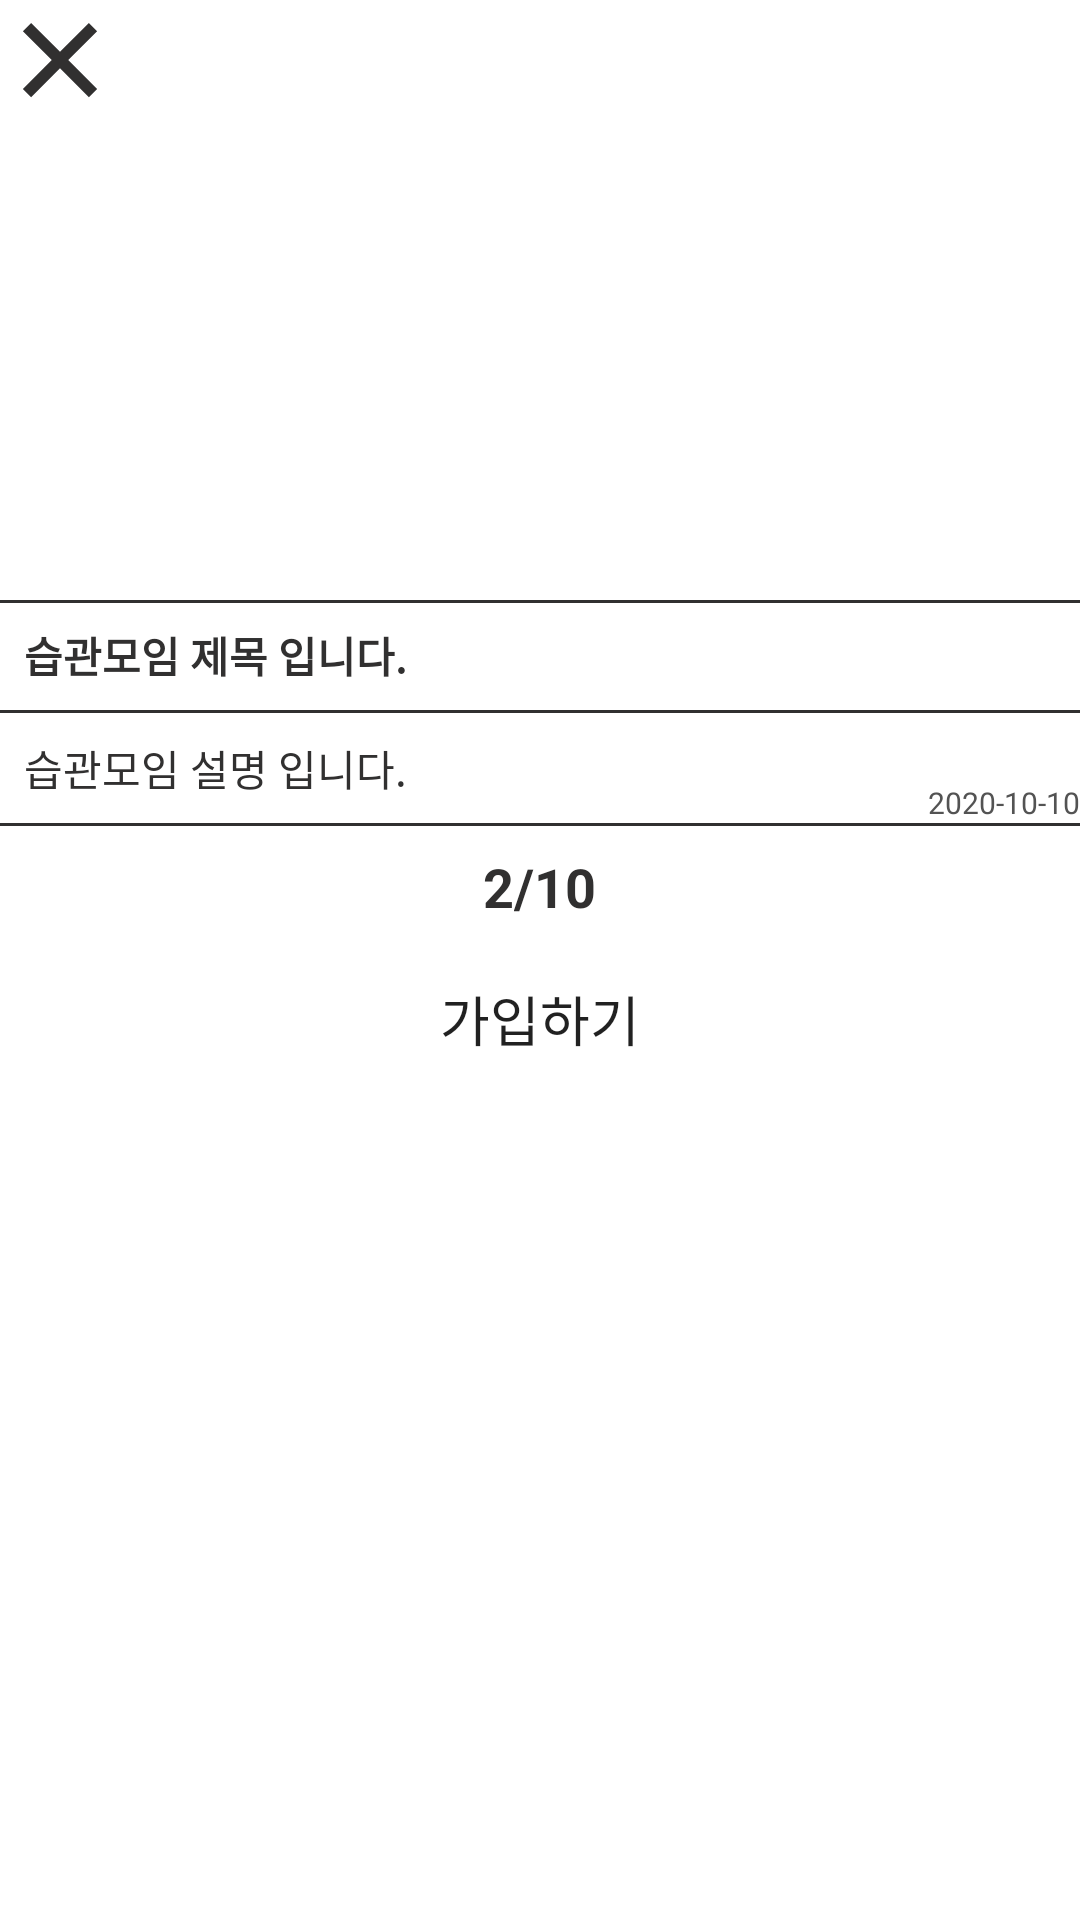

Screen size 1080w x 1920h. Icon name, then its center in pixels as [x,y]:
close: [60,60]
